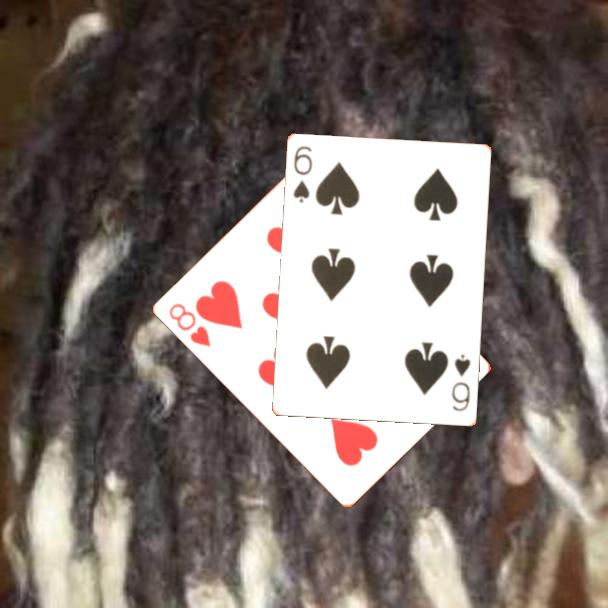h08: (165, 300, 213, 350)
s06: (290, 143, 316, 206), (449, 351, 474, 414)
